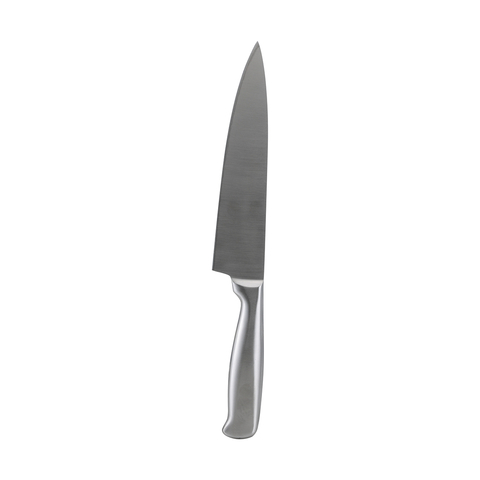knife: (210, 41, 268, 439)
